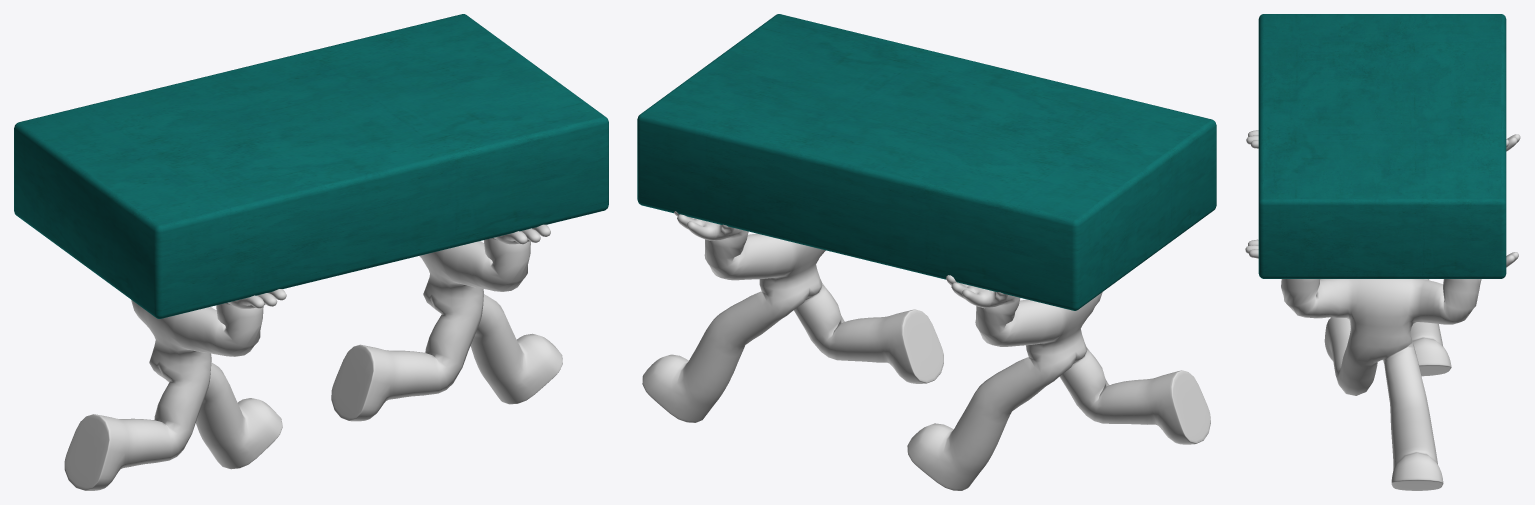
File: kv1-manx2.gltf
The picture shows the model from 3 angles, left to right: view 1: azimuth 30°, elevation 25°; view 2: azimuth 150°, elevation 25°; view 3: azimuth 270°, elevation 25°; orthographic projection. The views are drawn at different scales.
Visible parts, largest first — view 1: Cube_2, manx2; view 2: Cube_2, manx2; view 3: Cube_2, manx2.
Boxes of the visible parts, bbox=[...] form: Cube_2: bbox=[14, 14, 608, 318]; manx2: bbox=[64, 224, 562, 490]; Cube_2: bbox=[637, 14, 1216, 310]; manx2: bbox=[642, 211, 1210, 490]; Cube_2: bbox=[1258, 14, 1506, 278]; manx2: bbox=[1245, 130, 1520, 490].
Size of the model in its own units: 54.19 by 34.32 by 28.84.
2 materials, 2 textured.
